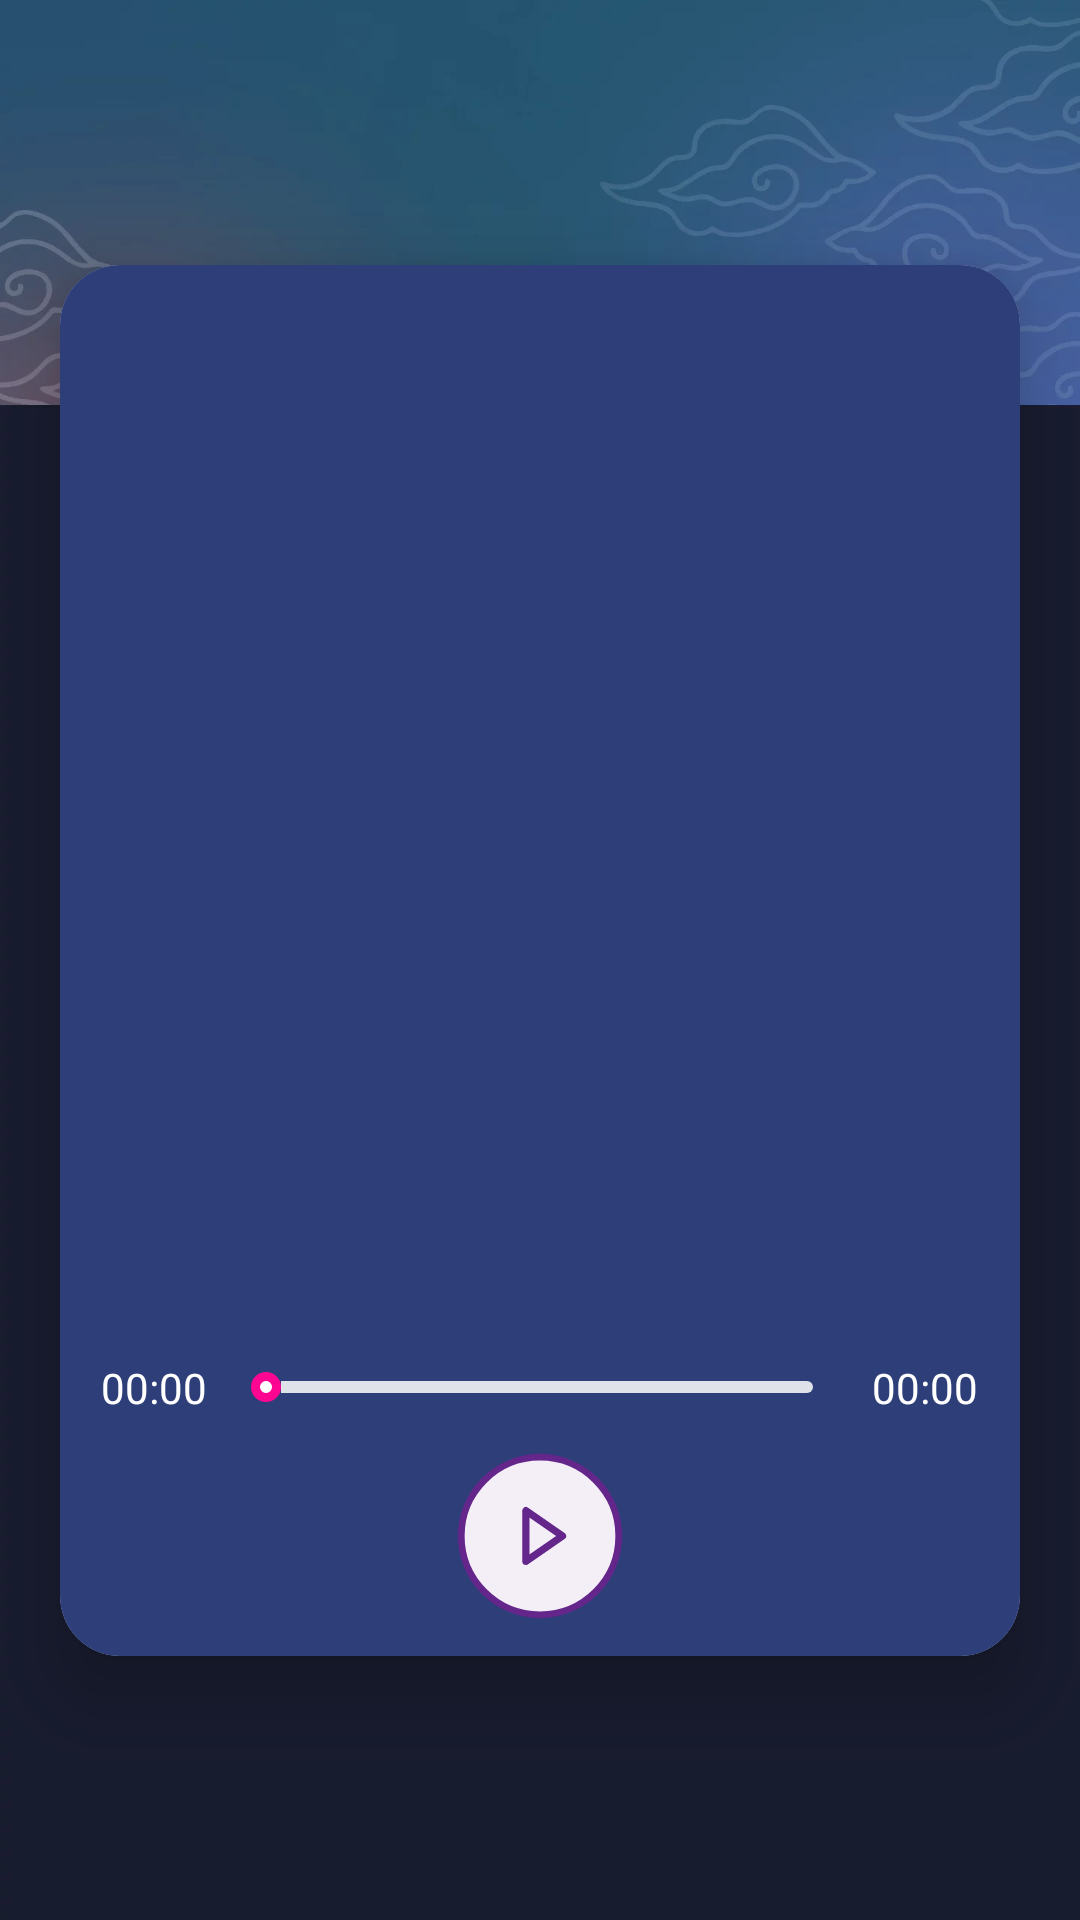

Where to tap for icons on this 1080 × 1920 app screen, as [x,y]:
playback play: [540,1536]
